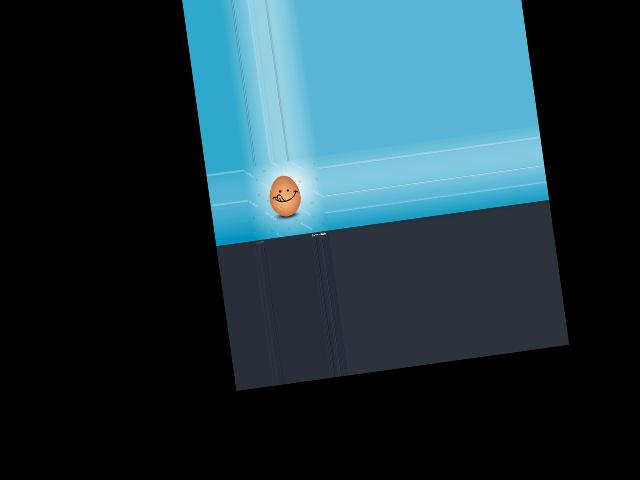egg: (266, 173, 302, 218)
